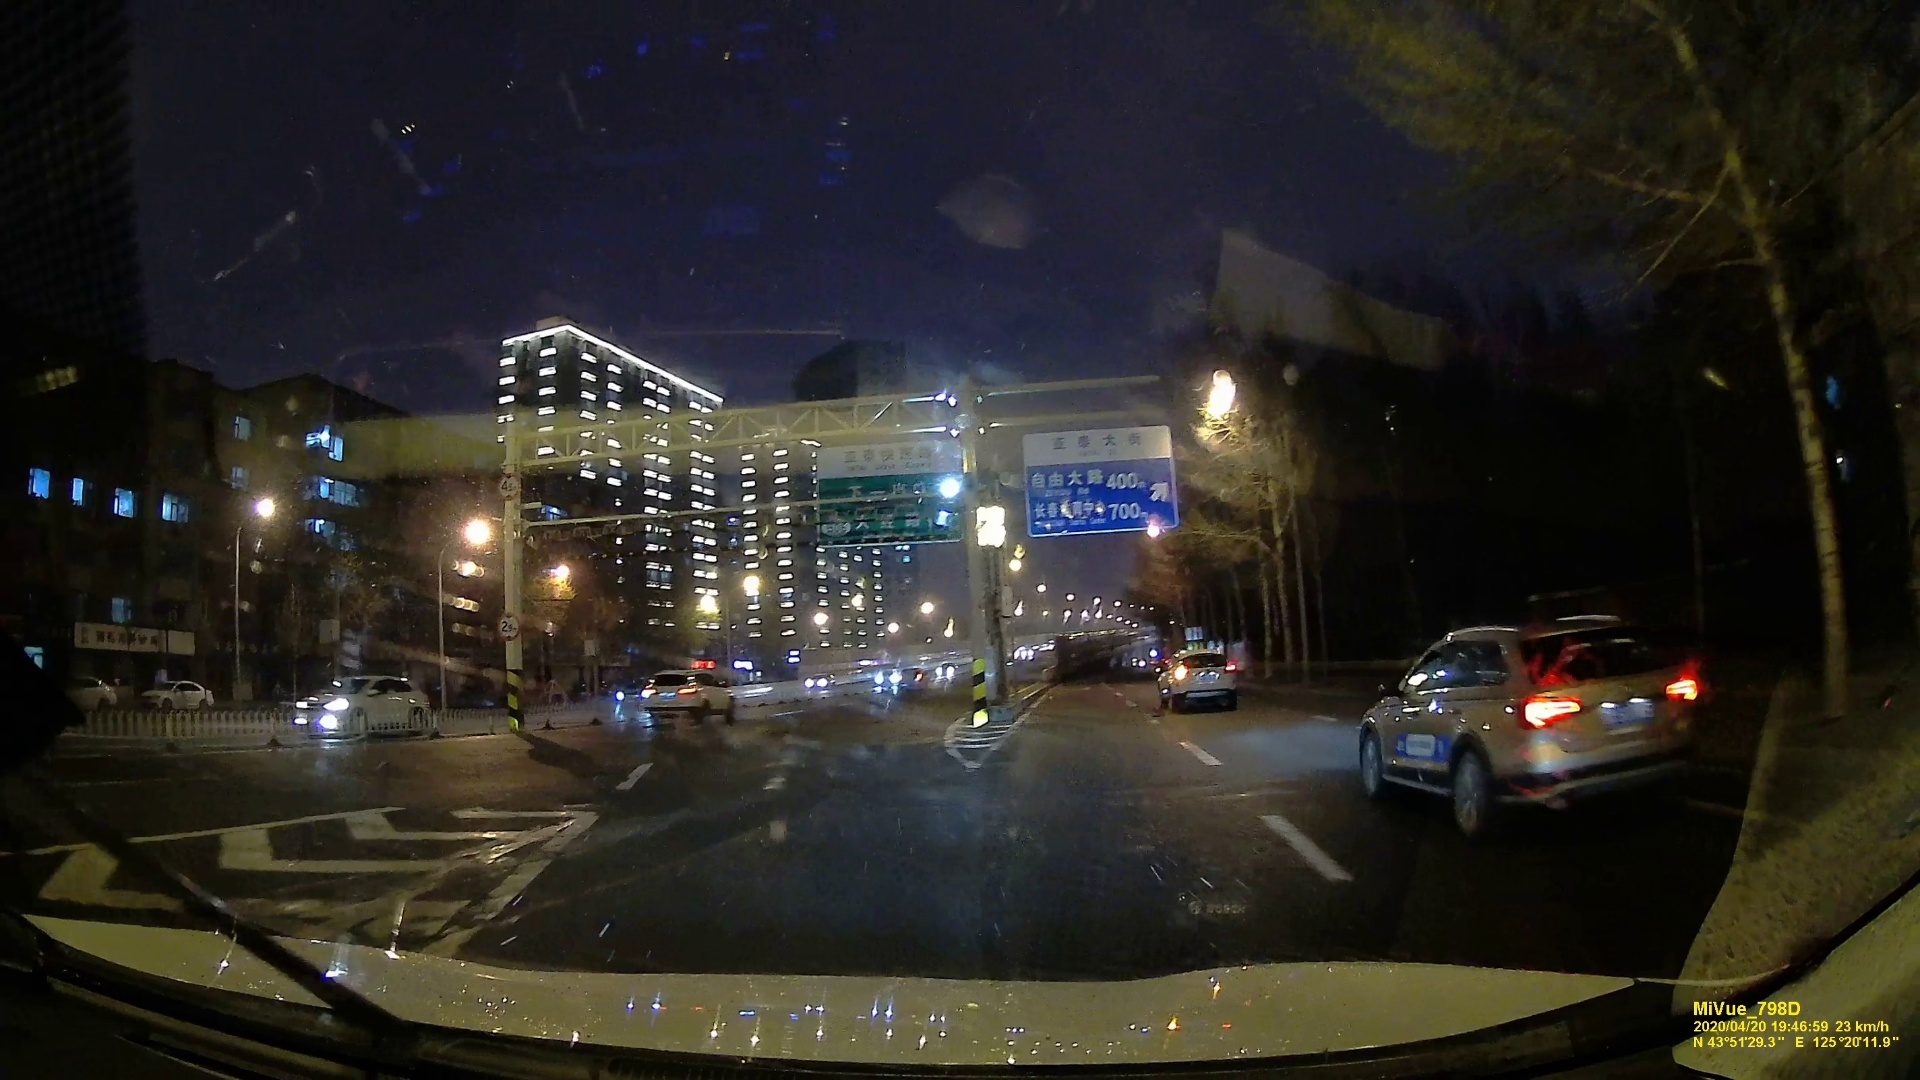traffic_sign: (810, 448, 965, 543), (1026, 434, 1170, 531)
vehicle: (1352, 615, 1708, 825), (295, 679, 433, 736), (1158, 647, 1240, 711), (638, 670, 727, 721), (132, 680, 208, 711)
